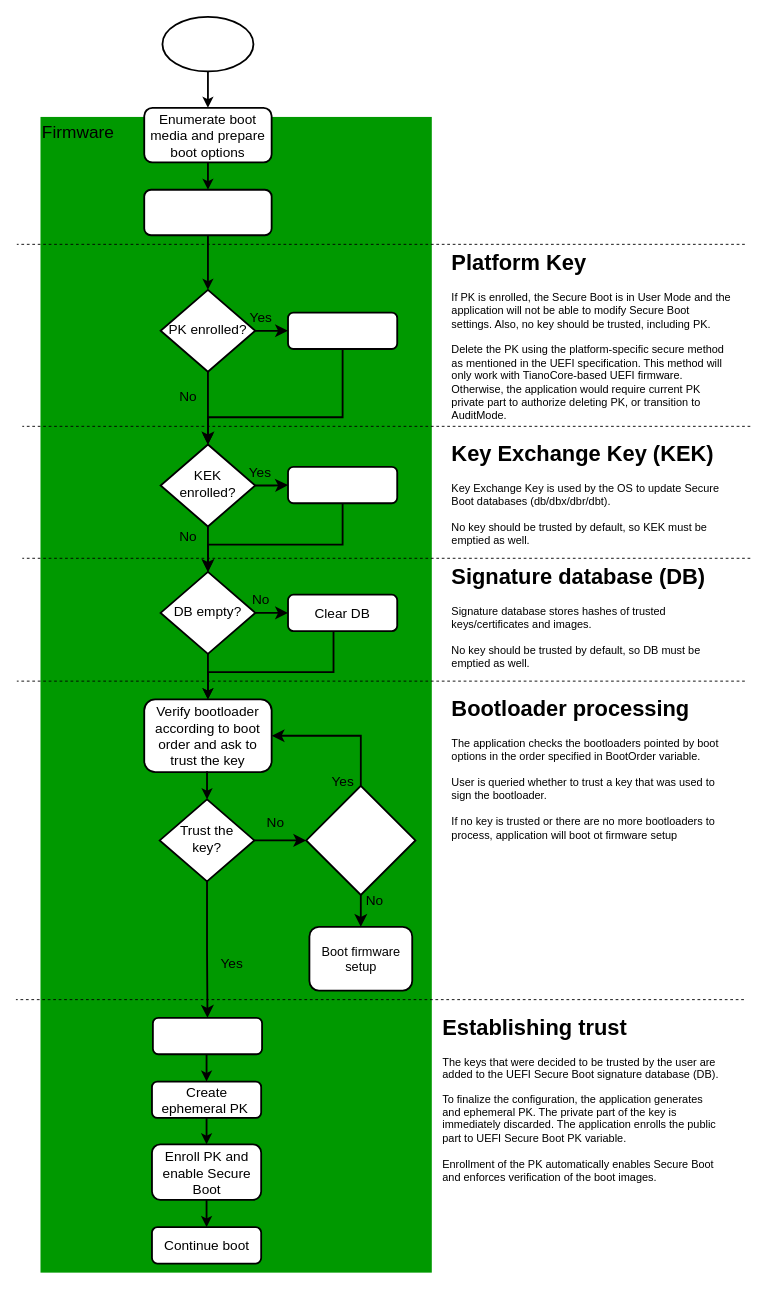
Some shapes in this 767 by 1290 pixel diagram are drawn without their labels. Each missing label, with the centre of its shape:
Add key to DB: (207,1035)
Boot Soverign Boot Wizard: (207,212)
Delete KEK: (342,484)
Delete PK: (342,330)
More bootloaders available?: (360,839)
Power On: (207,43)
